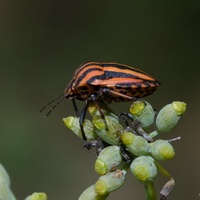insect: (64, 62, 159, 143)
